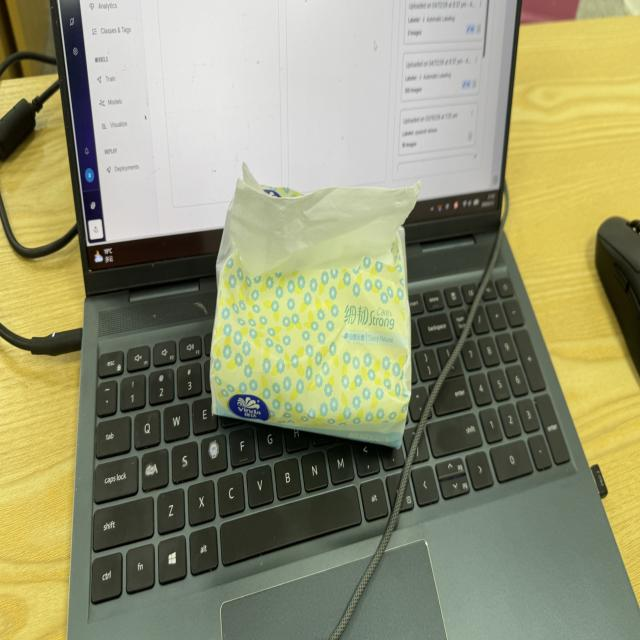tissue: (211, 166, 419, 446)
